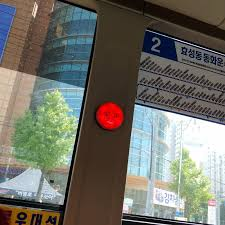bell: (93, 98, 127, 133)
